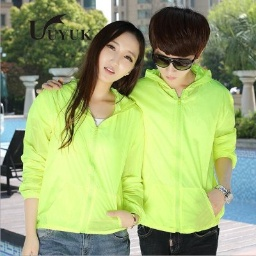face: (147, 3, 213, 88), (80, 18, 143, 101)
